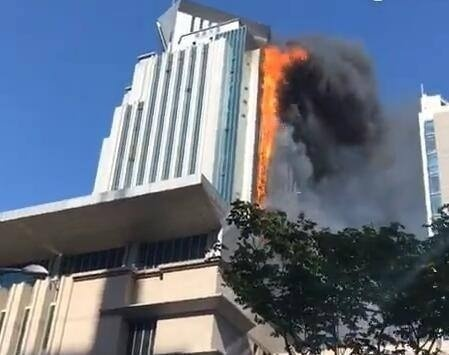fire: (255, 37, 306, 201)
